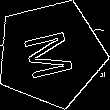M_E: (20, 26, 81, 82)
